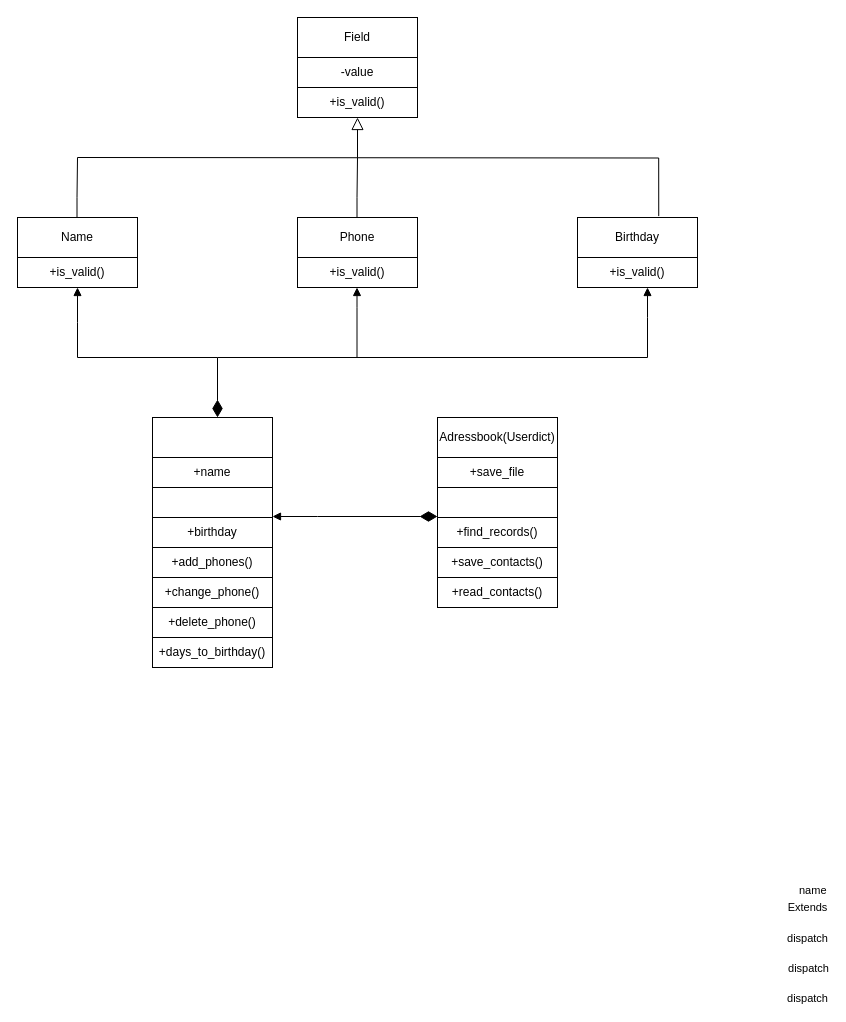
Some shapes in this 846 by 1022 pixel diagram are drawn without their labels. The shapes that lost their labels are listed below. From the top down, each one's box as (x1, y1, x2, y2) in pixels, then its label:
(152, 416, 272, 458): Record
(152, 486, 272, 518): +phones
(436, 486, 558, 518): +add_records()
